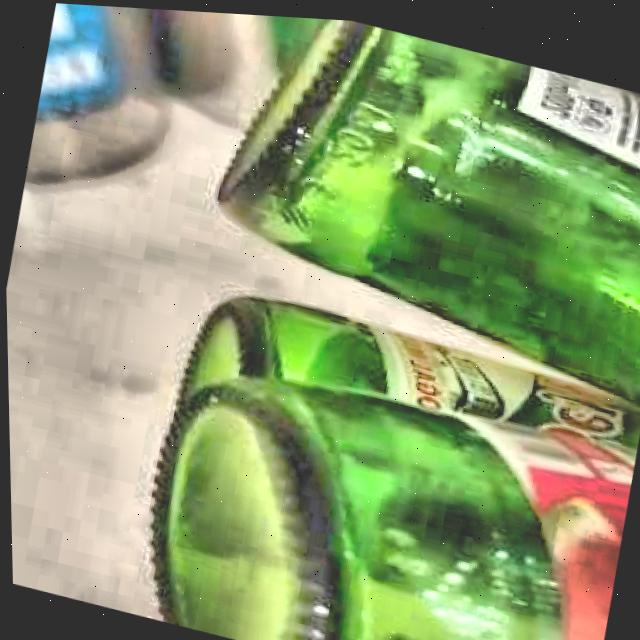glass: (149, 15, 640, 640)
